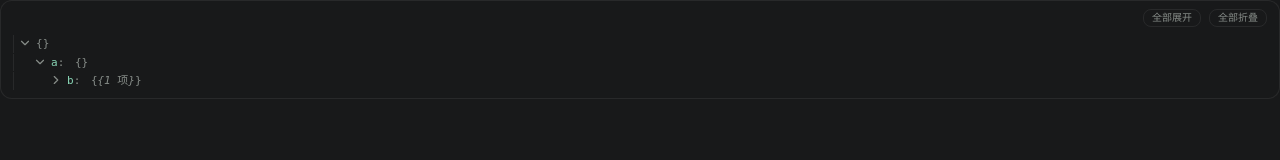
Test case: JsonViewer 组件 › 「全部展开 / 全部折叠」批量切换节点状态
What coordinates should you click on to do the following:
click the button "全部展开"
I would click on:
 (1172, 18)
Its box is [1143, 9, 1201, 27].
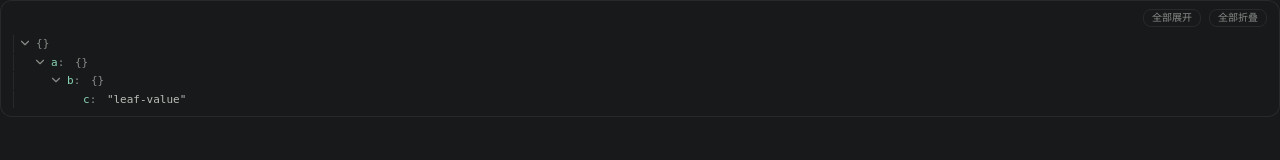
Check: the text "\"leaf-value\"" is shown, box [107, 91, 186, 108]
What coordinates should you click on to do the following:
click the button "全部折叠"
I would click on:
 (1238, 18)
Its box is [1209, 9, 1267, 27].
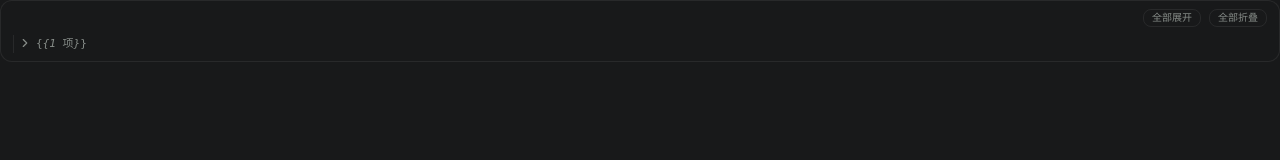
Check: the text "a" is gone
Check: the text "leaf-value" is gone
Check: the text "{1 项}" is shown, box [43, 35, 80, 53]
